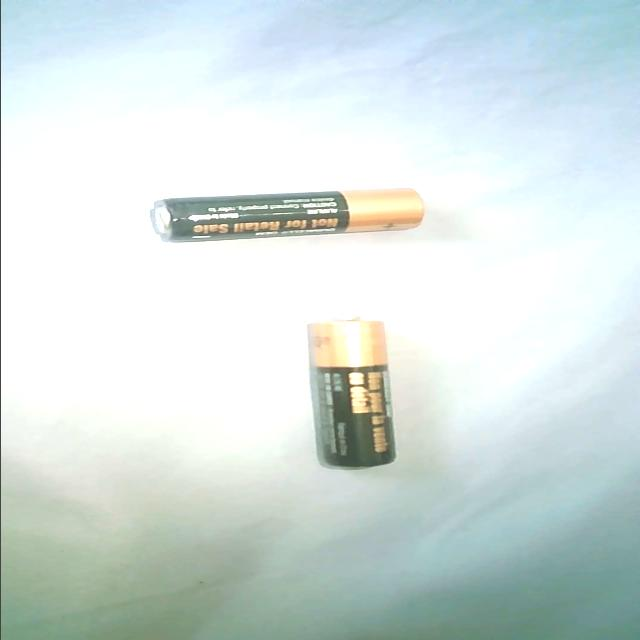AA: (149, 187, 425, 243), (306, 316, 398, 470)
